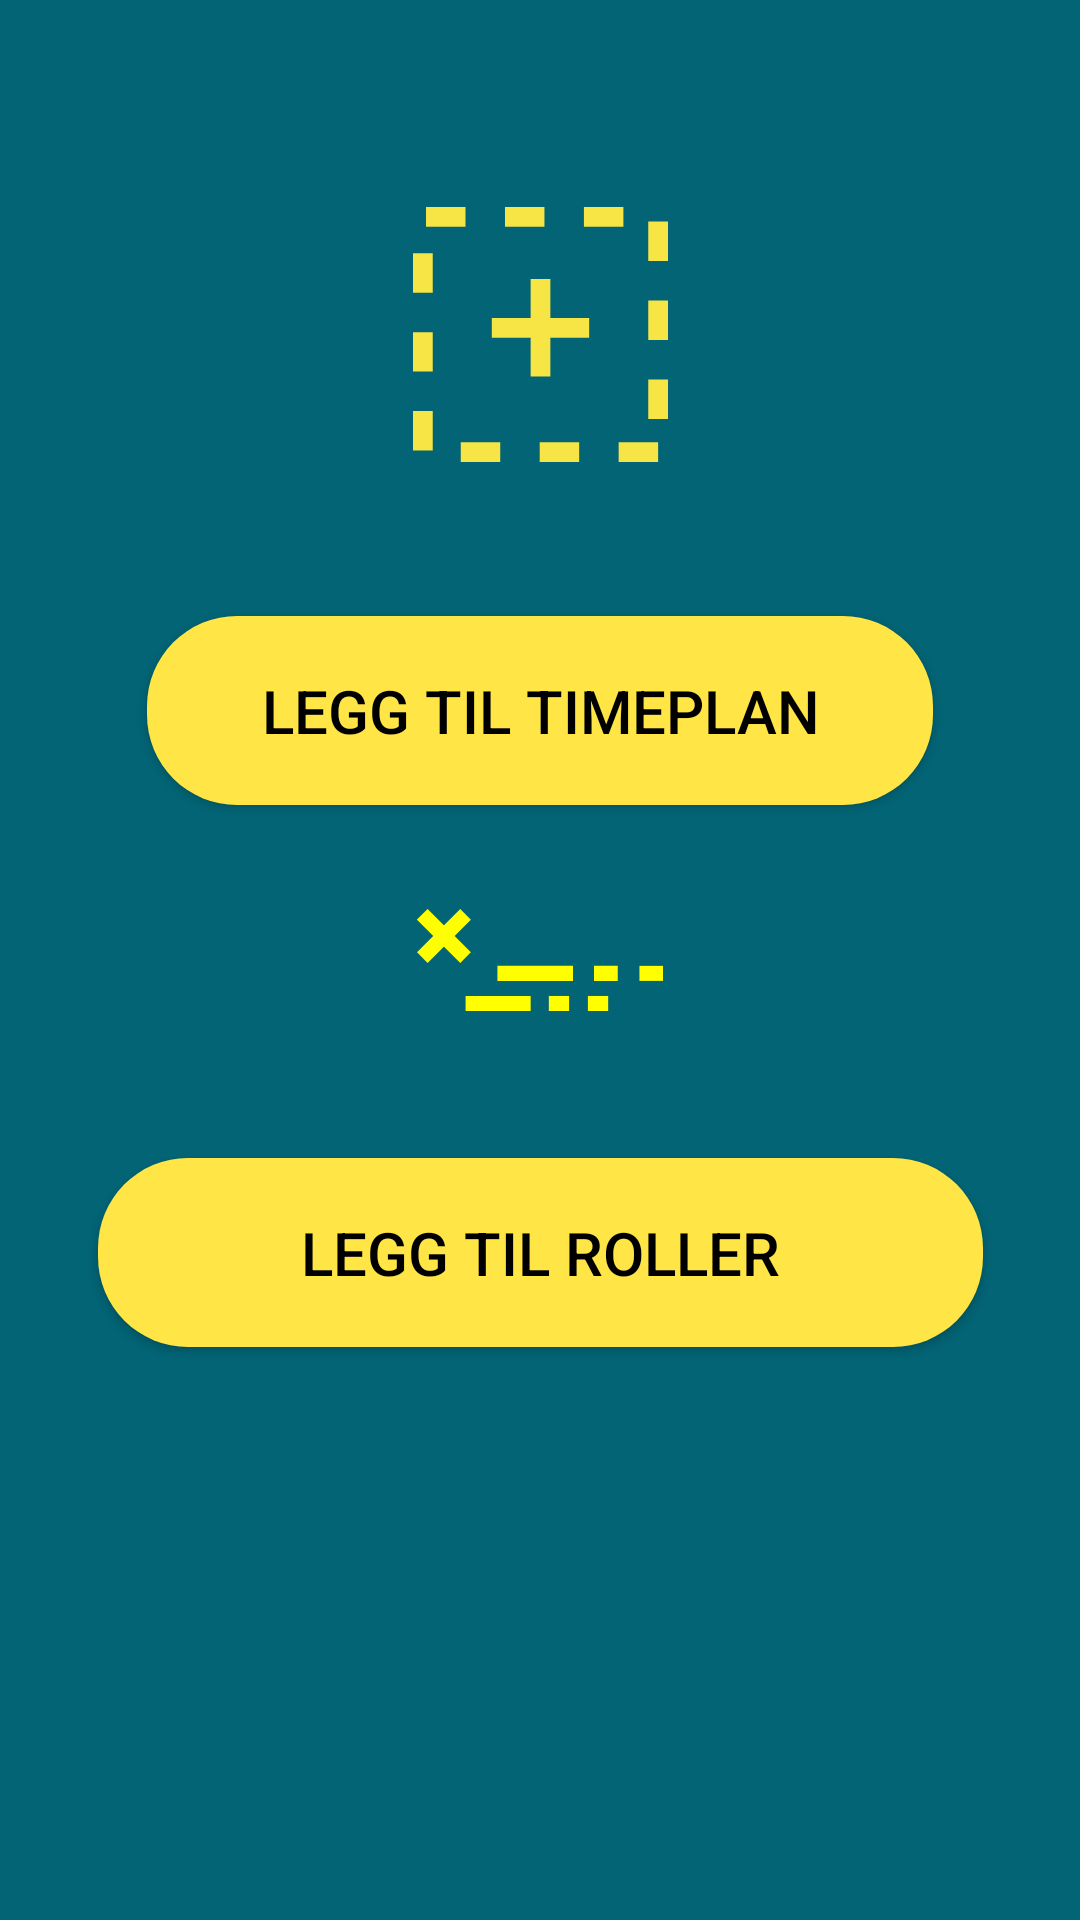

Icon click points for this 1080 × 1920 phone screenshot, format point (x, y):
add: point (540, 334)
